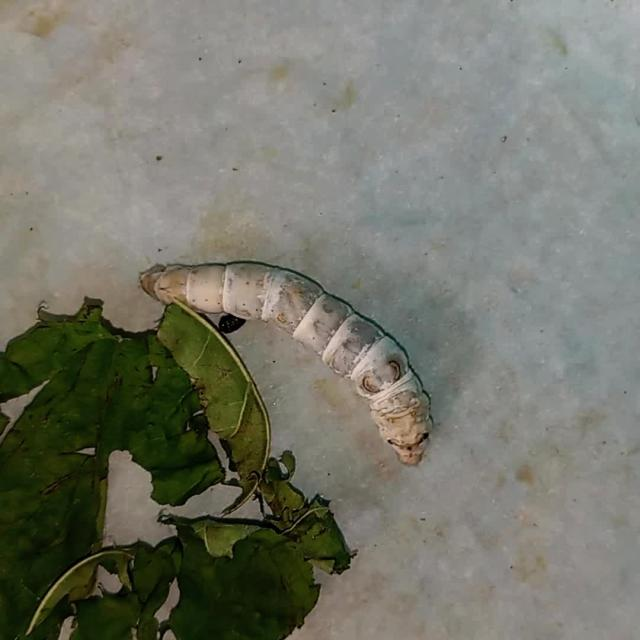Grasserie: (134, 243, 449, 469)
